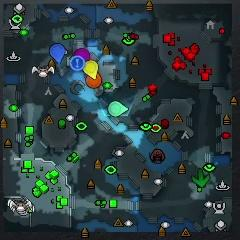Other: (70, 56, 85, 71)
p1: (49, 44, 66, 63)
p2: (108, 101, 129, 116)
p3: (74, 48, 90, 62)
p4: (82, 60, 99, 80)
p5: (86, 72, 102, 88)
x4: (191, 168, 210, 188)
